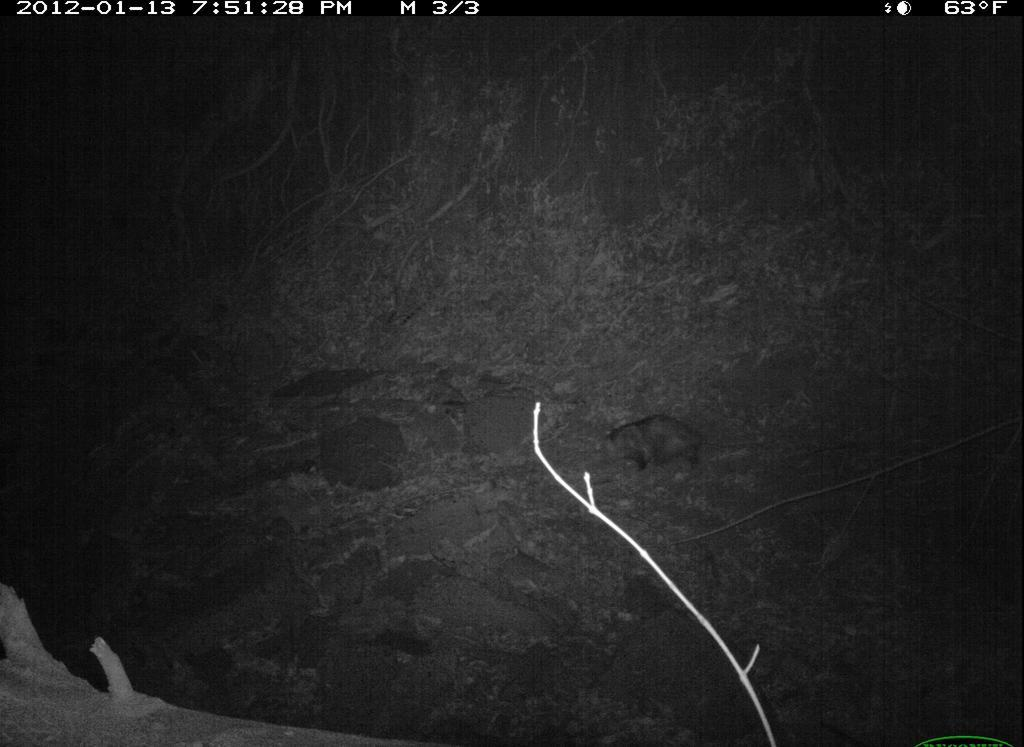opossum: (603, 402, 744, 484)
